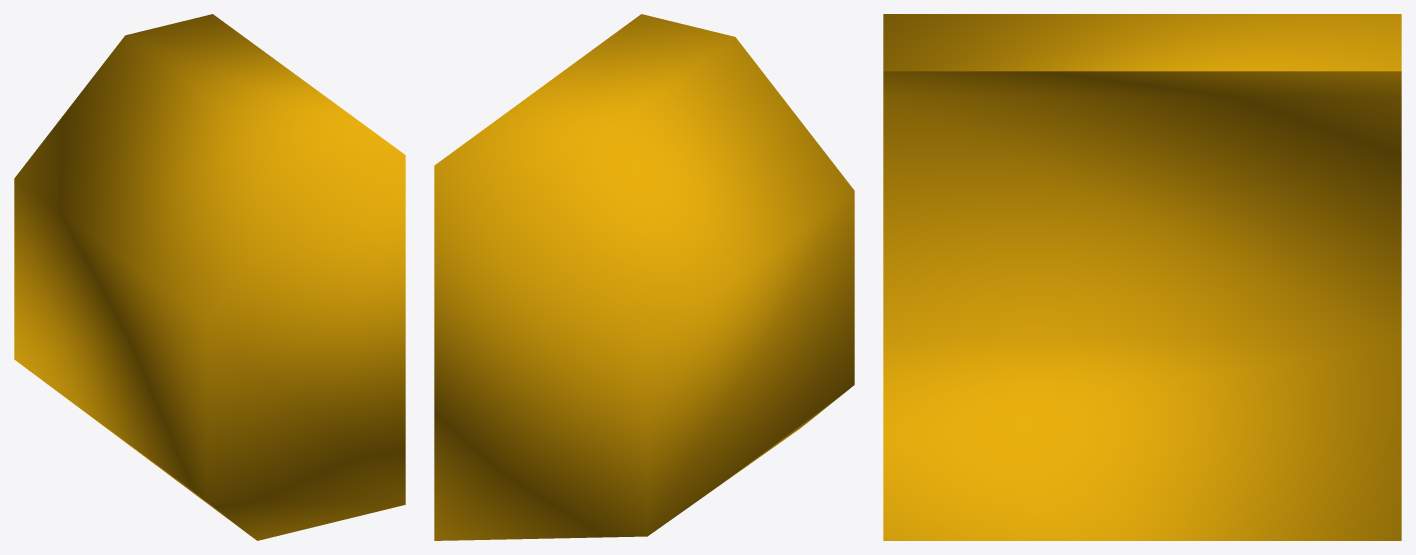
The model's file is body.fbx.
3 renders of one model, left to right at view 1: azimuth 30°, elevation 25°; view 2: azimuth 150°, elevation 25°; view 3: azimuth 270°, elevation 25°, orthographic. The views are drawn at different scales.
Visible parts, largest first — view 1: body; view 2: body; view 3: body.
Boxes of the visible parts, left/top/right/bottom form: body: left=14, top=14, right=405, bottom=540; body: left=434, top=14, right=854, bottom=540; body: left=883, top=14, right=1401, bottom=540.
Size of the model in its own units: 119 by 200 by 200.
